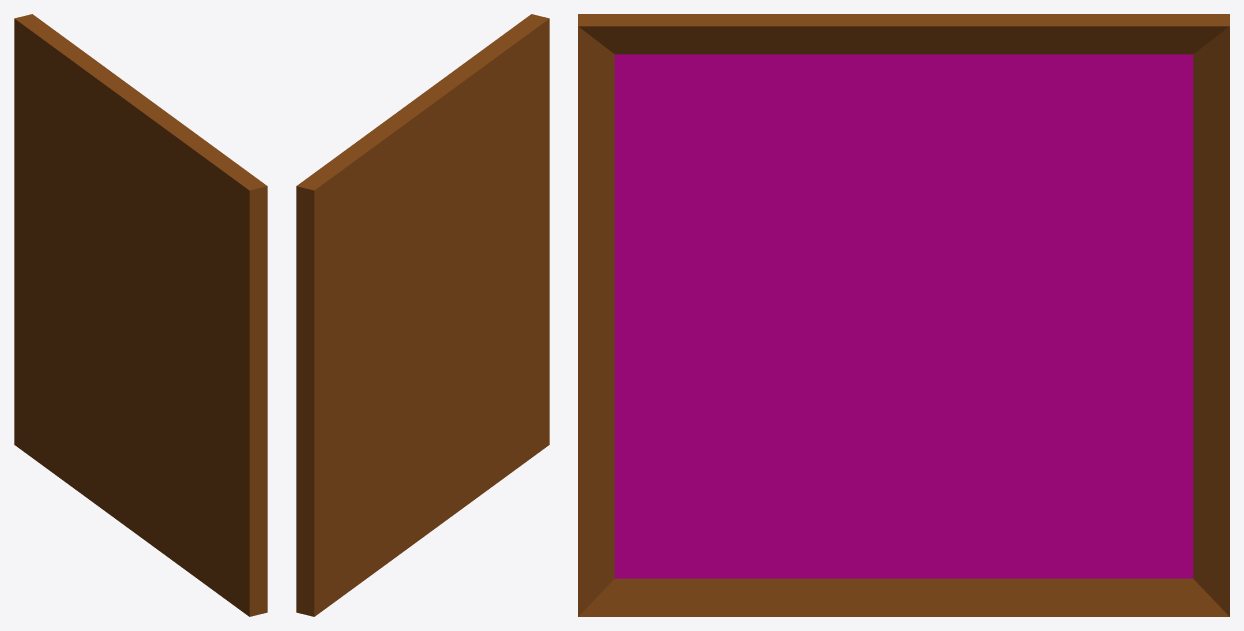
Rendered from map_frame.glb.
3 views of the same model, side by side, from view 1: azimuth 30°, elevation 25°; view 2: azimuth 150°, elevation 25°; view 3: azimuth 270°, elevation 25° (orthographic). The views are drawn at different scales.
Parts seen in each view (by area): view 1: Cube; view 2: Cube; view 3: Cube.
Part boxes in pixels (box(x1,y1,x2,y2)): Cube: box(14, 14, 267, 616); Cube: box(296, 14, 549, 616); Cube: box(578, 14, 1229, 616).
Size of the model in its own units: 0.089 by 2 by 2.
